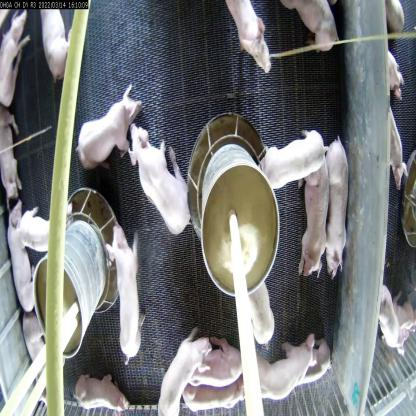Pig: (124, 128, 196, 232), (256, 118, 326, 198), (75, 85, 137, 173), (291, 141, 331, 272), (110, 219, 141, 356), (250, 338, 312, 400), (160, 330, 204, 416), (320, 134, 347, 267), (42, 0, 80, 93), (192, 322, 246, 384), (242, 281, 282, 362), (229, 2, 273, 73), (0, 97, 25, 212), (8, 212, 40, 300), (67, 370, 127, 415), (21, 322, 54, 403), (17, 205, 68, 254), (189, 376, 246, 409)
